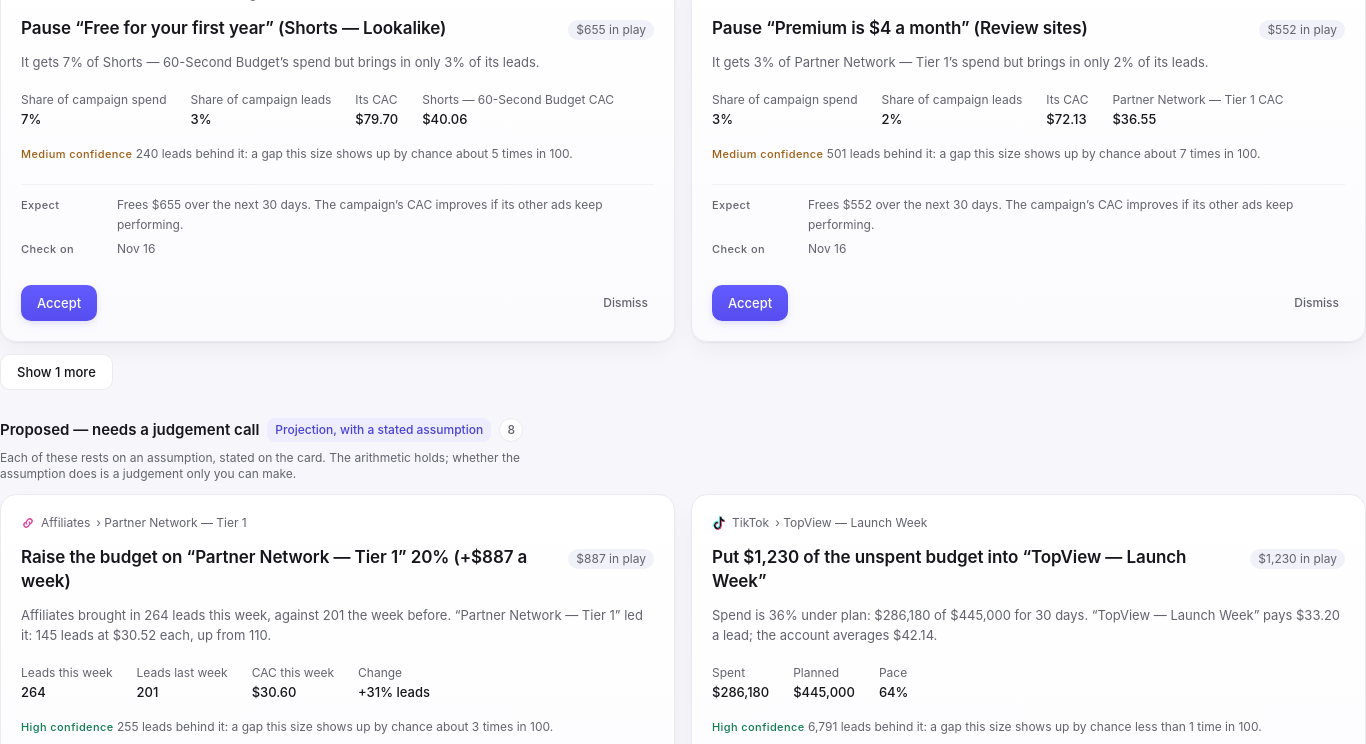
Test: Accept and Dismiss actually do something › Dismiss takes a reason and removes the card
(page scrolled)
Click the button "Show 1 more" at x=56, y=372, box [0,354,113,390]
(page scrolled)
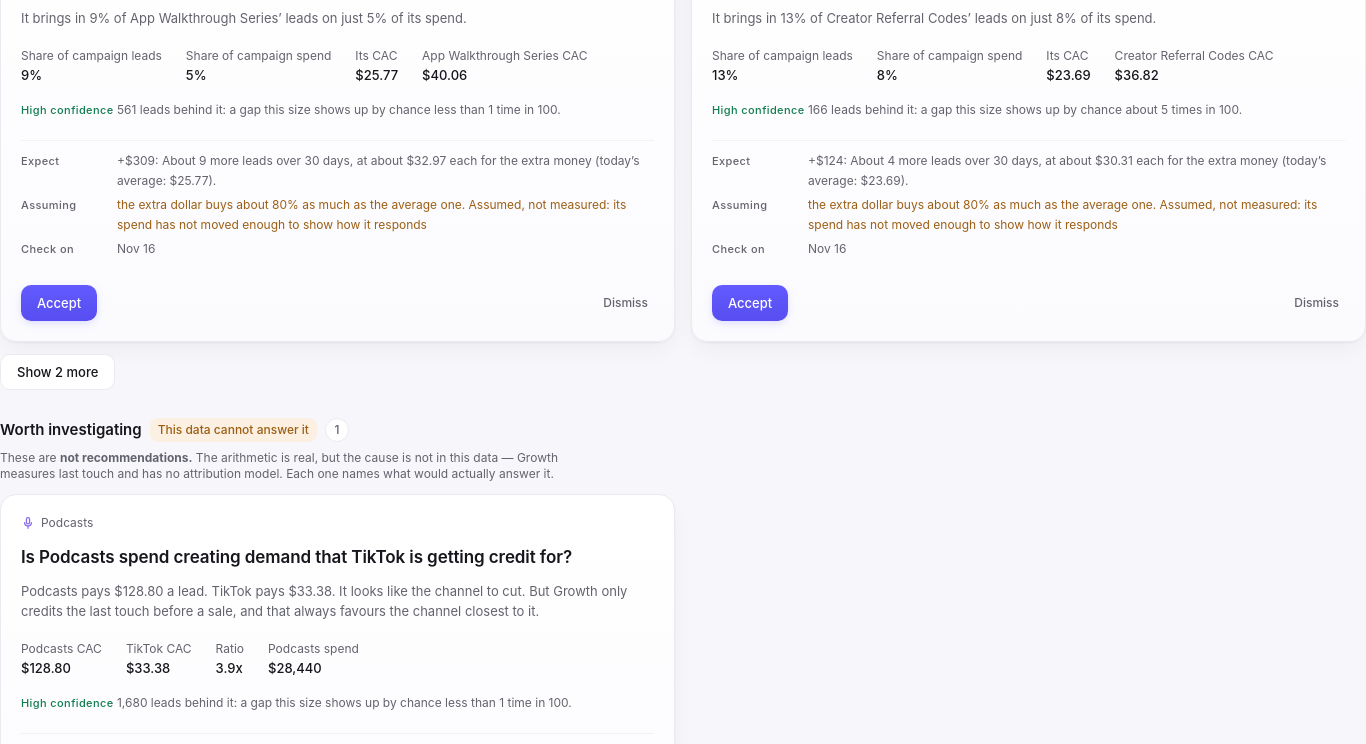
Click the button "Show 2 more" at x=58, y=372, box [0,354,115,390]
(page scrolled)
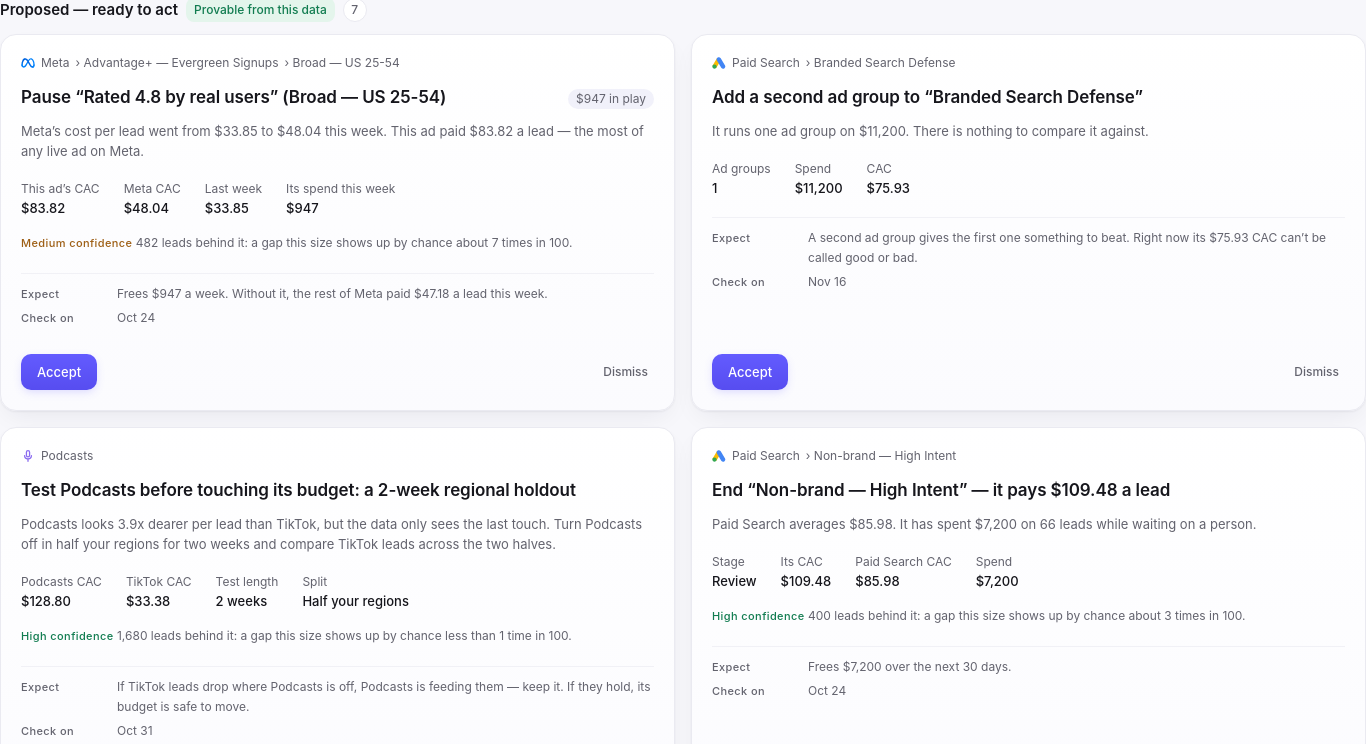
Click the button "Dismiss" below "Its spend this week" at x=626, y=372, box [597,358,654,386]
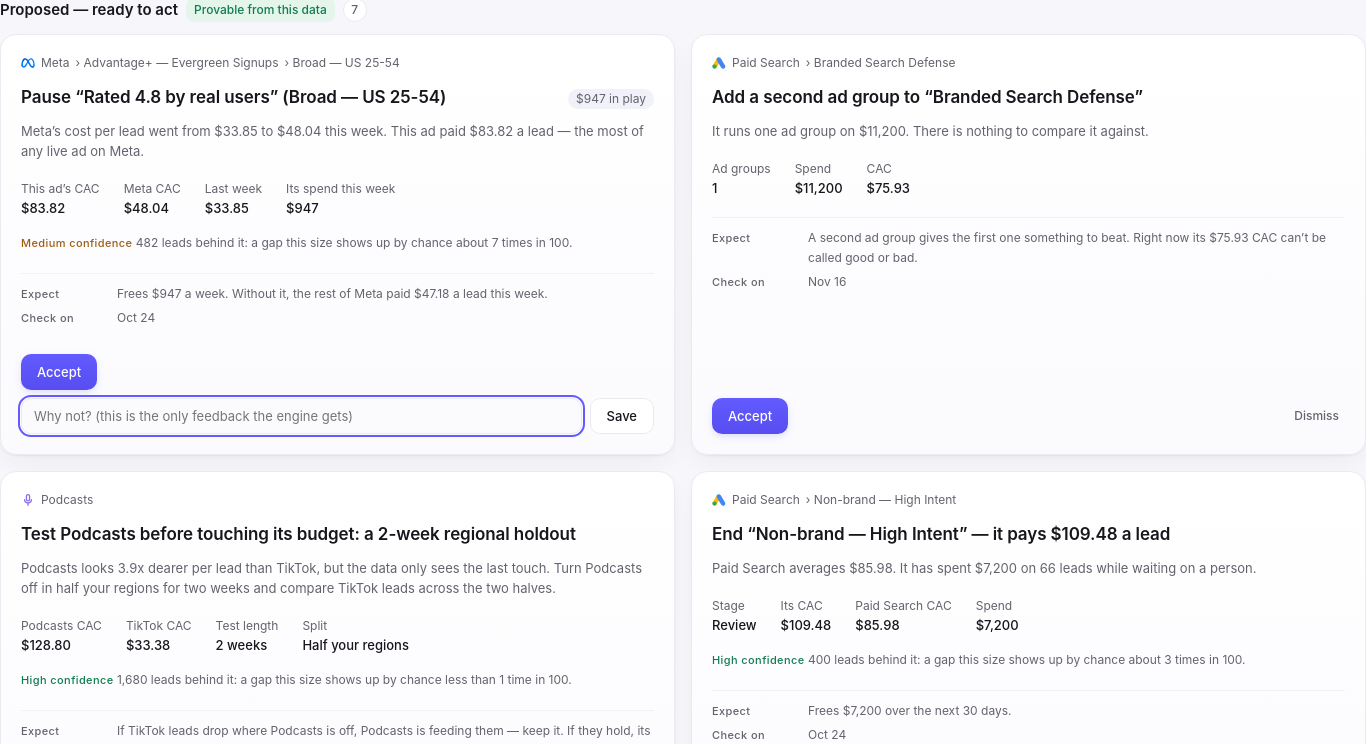
Type "already tried this" into the field with placeholder "Why not? (this is the only feedback the engine gets)" at x=301, y=416, box [21,398,582,434]
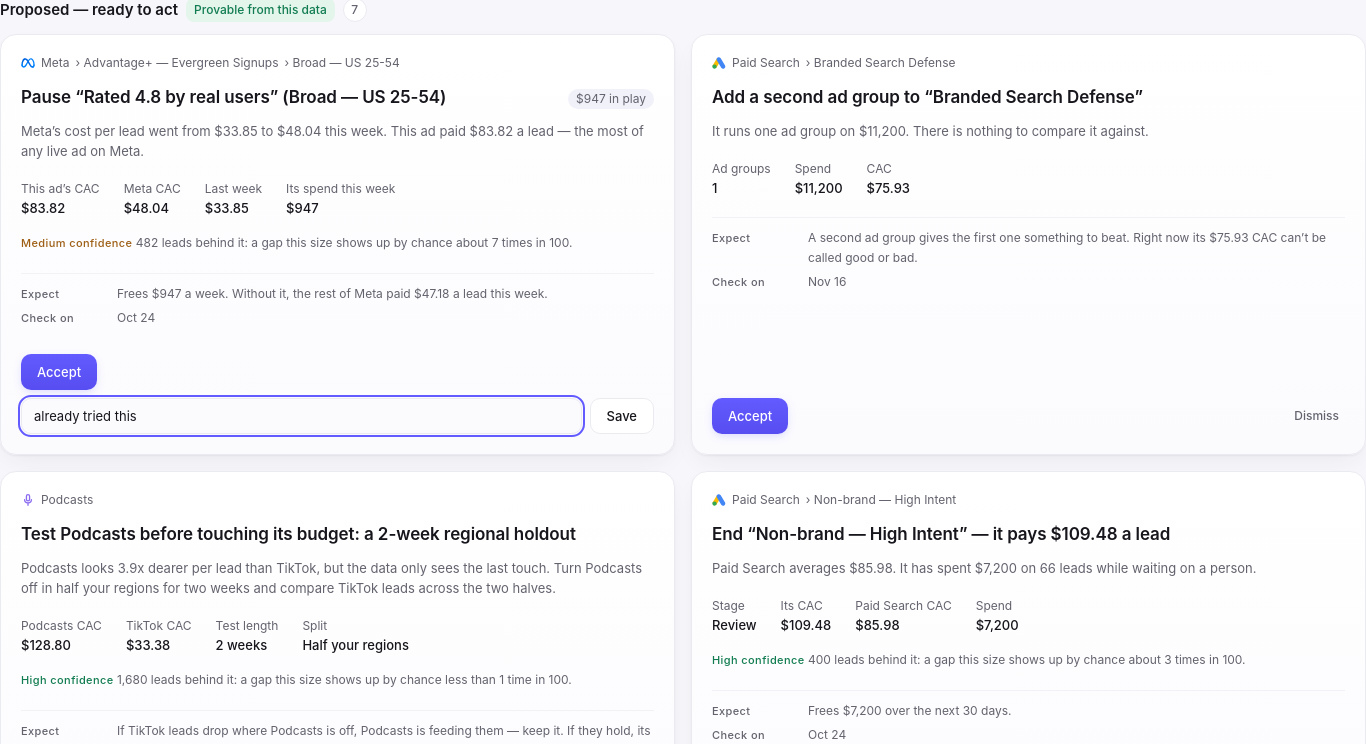
Click the button "Save" at x=622, y=416, box [590,398,654,434]
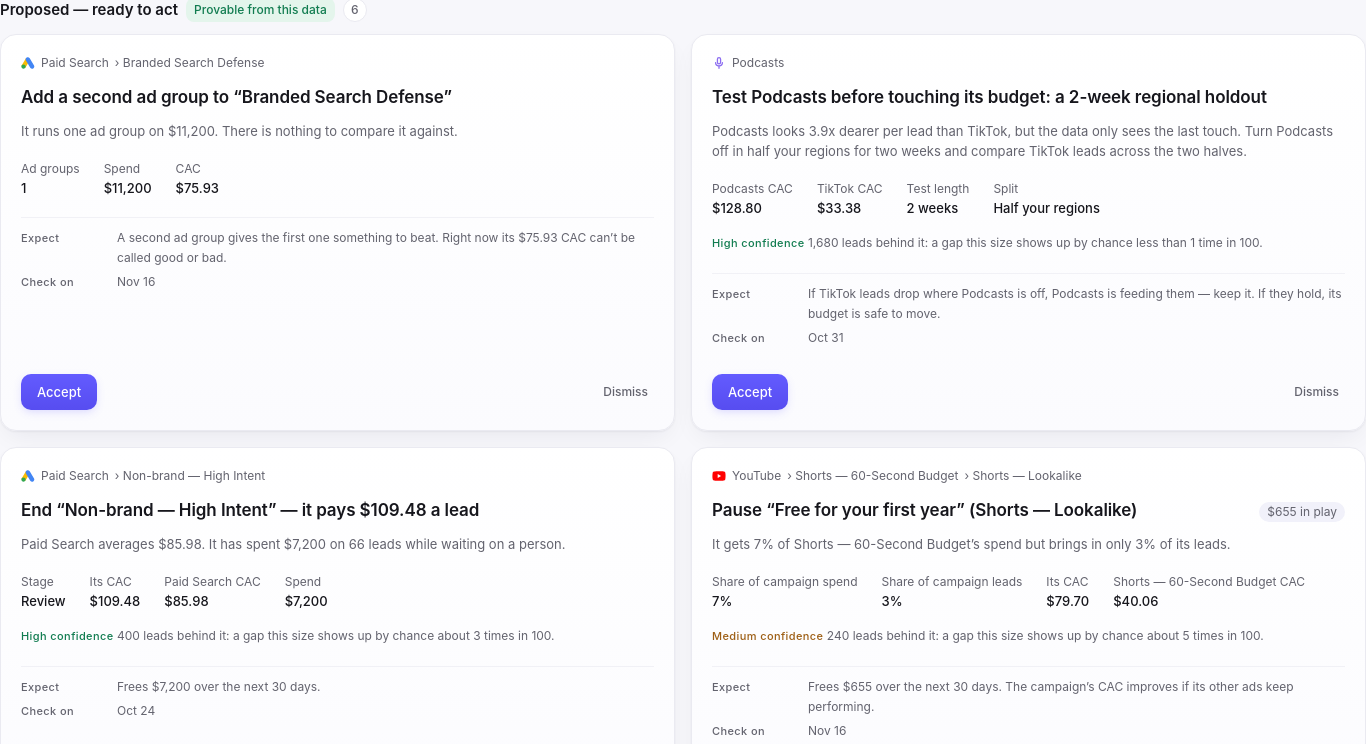
Now the number of elements with class "gr-dec__card" is 15
